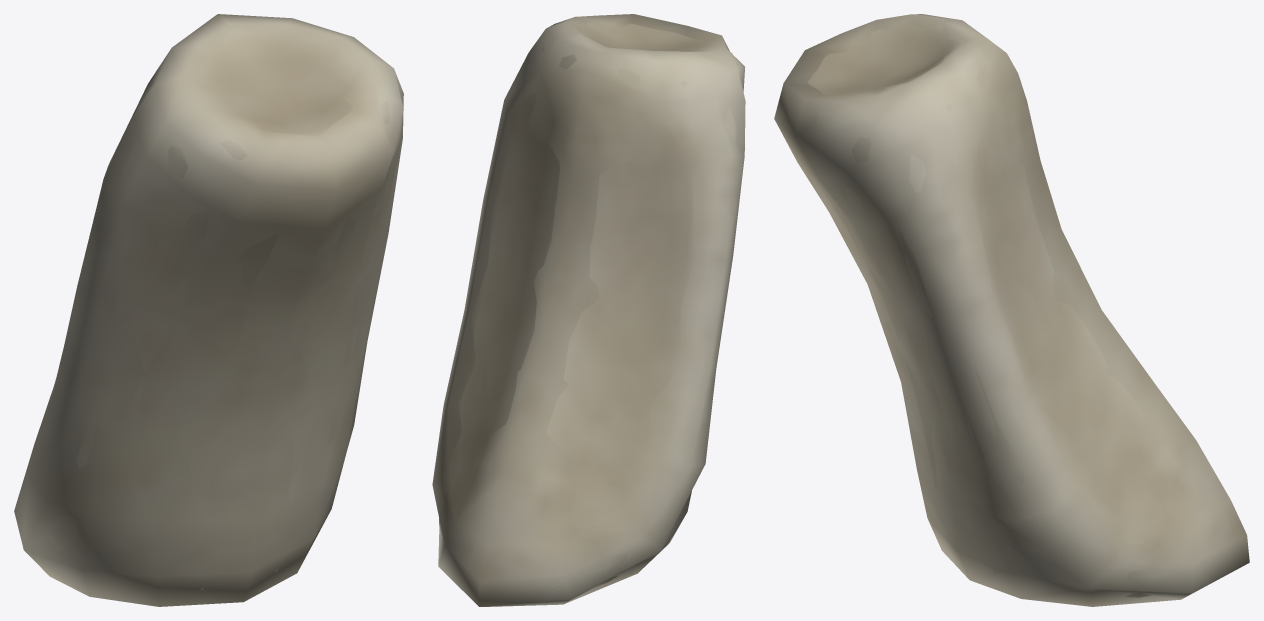
File: vertebrae caudales 08.fbx
The picture shows the model from 3 angles, left to right: view 1: azimuth 30°, elevation 25°; view 2: azimuth 150°, elevation 25°; view 3: azimuth 270°, elevation 25°; orthographic projection. The views are drawn at different scales.
Visible parts, largest first — view 1: vertebrae caudales 08, vertebrae caudales 08 high, vertebrae caudales 08 low; view 2: vertebrae caudales 08, vertebrae caudales 08 high, vertebrae caudales 08 low; view 3: vertebrae caudales 08, vertebrae caudales 08 high, vertebrae caudales 08 low.
Part boxes in pixels (left/top/right/bottom): vertebrae caudales 08: left=14, top=14, right=403, bottom=606; vertebrae caudales 08 high: left=45, top=27, right=395, bottom=589; vertebrae caudales 08 low: left=15, top=16, right=402, bottom=606; vertebrae caudales 08: left=432, top=14, right=745, bottom=606; vertebrae caudales 08 high: left=439, top=23, right=742, bottom=586; vertebrae caudales 08 low: left=435, top=14, right=744, bottom=606; vertebrae caudales 08: left=774, top=14, right=1249, bottom=606; vertebrae caudales 08 high: left=807, top=26, right=1169, bottom=597; vertebrae caudales 08 low: left=775, top=14, right=1248, bottom=605.
Bounding box in the file's own units: 0.7264 × 1.34 × 1.08.
Materials: 1 (1 with a texture image).
